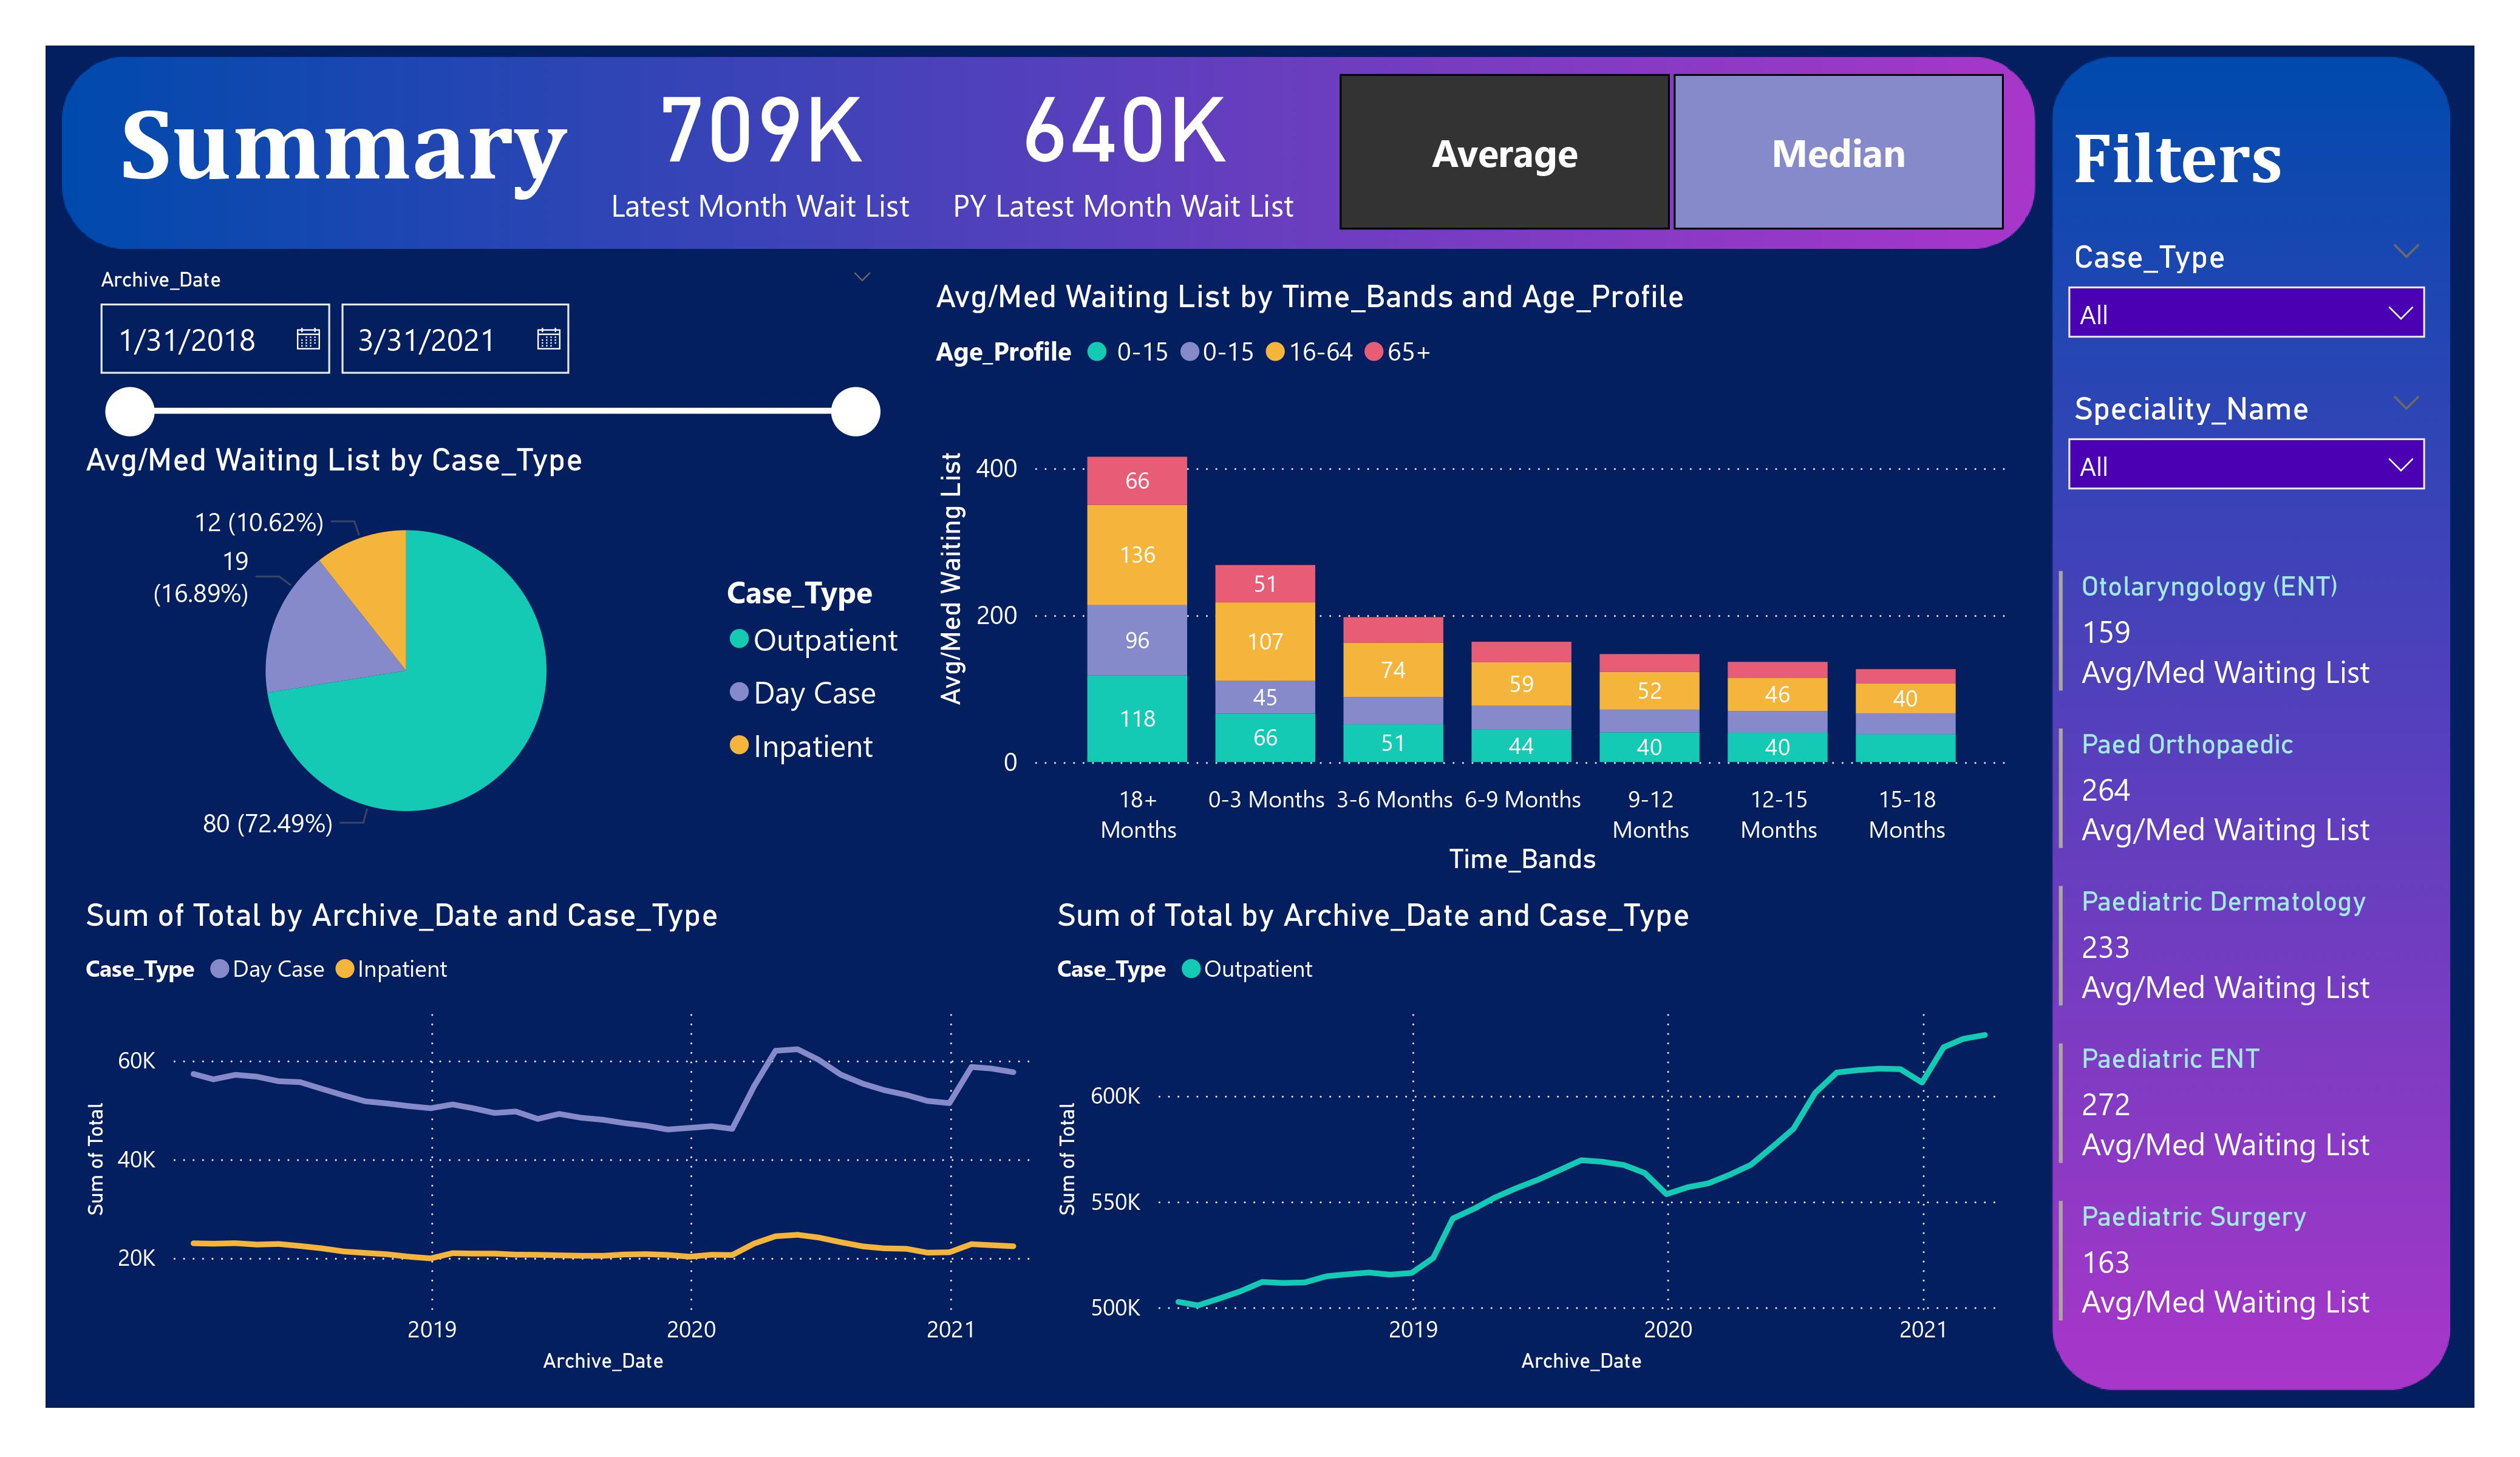

The page's visual inventory and layout, read from the dashboard file:
{"tool":"powerbi","page":{"name":"Summary","canvas":[1280,720],"ordinal":0},"visuals":[{"type":"card","fields":{"Values":["All_Data.Latest Month Wait List"]},"box":[288.6,1.4,175.7,95.7],"z":0},{"type":"card","fields":{"Values":["All_Data.PY Latest Month Wait List"]},"box":[464,2,208,94],"z":1000},{"type":"slicer","fields":{"Values":["Calculation Method.Calculation"]},"box":[656,8,400,96],"z":2000},{"type":"pieChart","fields":{"Category":["All_Data.Case_Type"],"Y":["All_Data.Avg/Med Waiting List"]},"box":[16,208,448,224],"z":3000},{"type":"columnChart","fields":{"Y":["All_Data.Avg/Med Waiting List"],"Category":["All_Data.Time_Bands"],"Series":["All_Data.Age_Profile"]},"box":[464,122,576,320],"z":4000},{"type":"multiRowCard","fields":{"Values":["All_Data.Speciality_Name","All_Data.Avg/Med Waiting List"]},"box":[1056,272,208,432],"z":5000},{"type":"lineChart","fields":{"Category":["All_Data.Archive_Date"],"Y":["Sum(All_Data.Total)"],"Series":["All_Data.Case_Type"]},"box":[16,448,512,256],"z":6000},{"type":"lineChart","fields":{"Category":["All_Data.Archive_Date"],"Y":["Sum(All_Data.Total)"],"Series":["All_Data.Case_Type"]},"box":[528,448,512,256],"z":7000},{"type":"slicer","fields":{"Values":["All_Data.Archive_Date"]},"box":[16,112,432,96],"z":8000},{"type":"slicer","fields":{"Values":["All_Data.Case_Type"]},"box":[1056,96,208,80],"z":9000},{"type":"slicer","fields":{"Values":["All_Data.Speciality_Name"]},"box":[1056,176,208,96],"z":10000},{"type":"textbox","box":[34,14,254,82],"z":11000},{"type":"textbox","box":[1063,32,212.9,61.4],"z":12000}]}

Visuals, with their boxes in screenshot pixels (x1, y1, x2, y2):
card - All_Data.Latest Month Wait List: bbox=[593, 48, 927, 229]
card - All_Data.PY Latest Month Wait List: bbox=[926, 49, 1321, 228]
slicer - Calculation Method.Calculation: bbox=[1290, 61, 2049, 243]
pieChart - All_Data.Case_Type x All_Data.Avg/Med Waiting List: bbox=[76, 440, 926, 865]
columnChart - All_Data.Avg/Med Waiting List x All_Data.Time_Bands: bbox=[926, 277, 2019, 884]
multiRowCard - All_Data.Speciality_Name x All_Data.Avg/Med Waiting List: bbox=[2049, 562, 2444, 1381]
lineChart - All_Data.Archive_Date x Sum(All_Data.Total): bbox=[76, 895, 1047, 1381]
lineChart - All_Data.Archive_Date x Sum(All_Data.Total): bbox=[1047, 895, 2019, 1381]
slicer - All_Data.Archive_Date: bbox=[76, 258, 896, 440]
slicer - All_Data.Case_Type: bbox=[2049, 228, 2444, 379]
slicer - All_Data.Speciality_Name: bbox=[2049, 379, 2444, 562]
textbox: bbox=[110, 72, 592, 228]
textbox: bbox=[2063, 106, 2467, 223]
